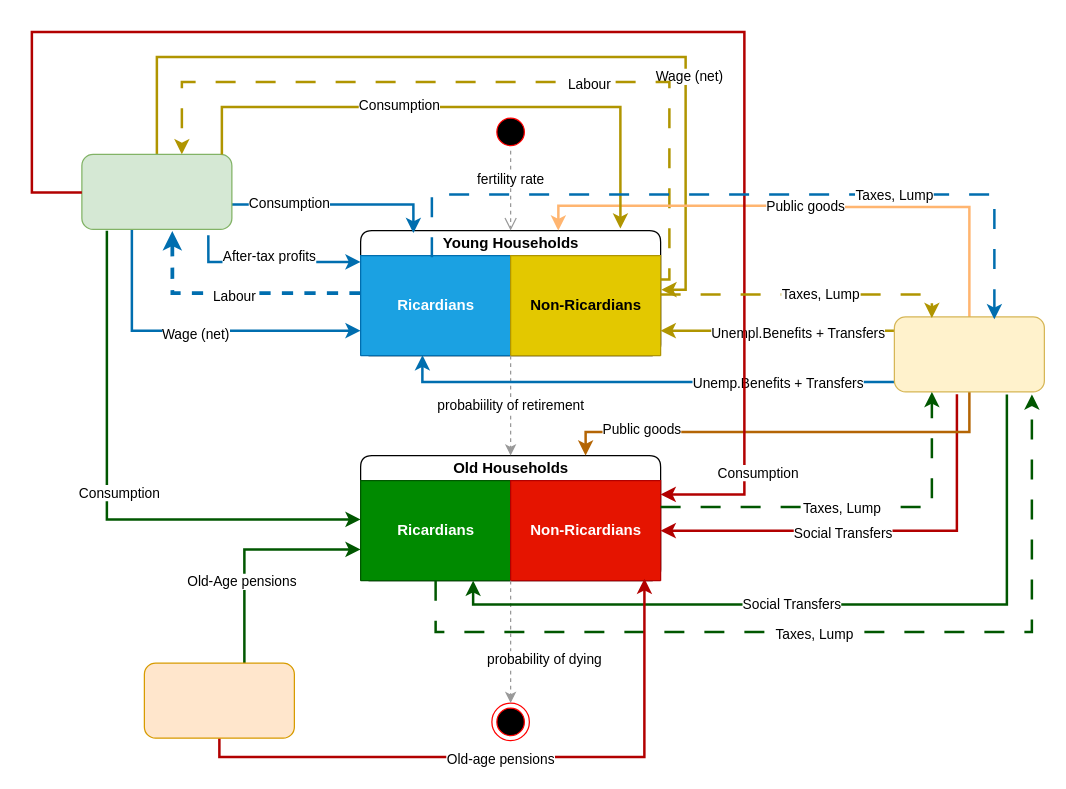
Image size: 1066x789. Some labels were removed from this diagram. The centre of each missing label's shape, as x and y in pixels:
Firms: the point at 156,191
Government: the point at 968,354
Pension System (PAYG, DC): the point at 218,700
